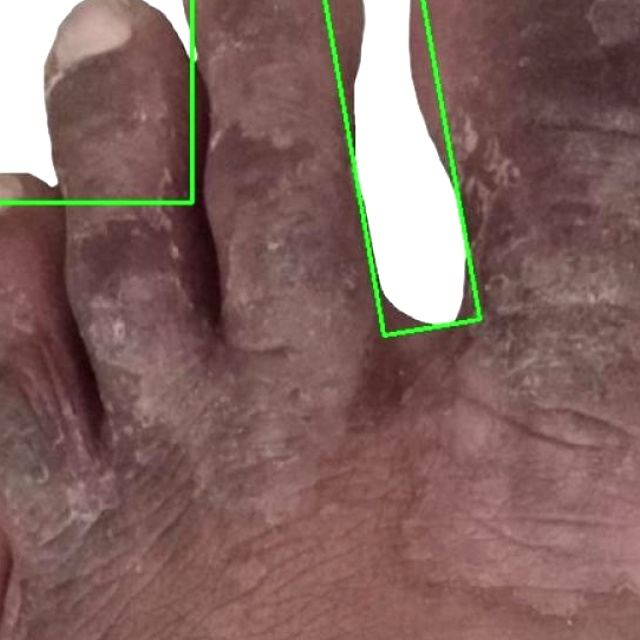Eczema: (326, 0, 480, 334)
